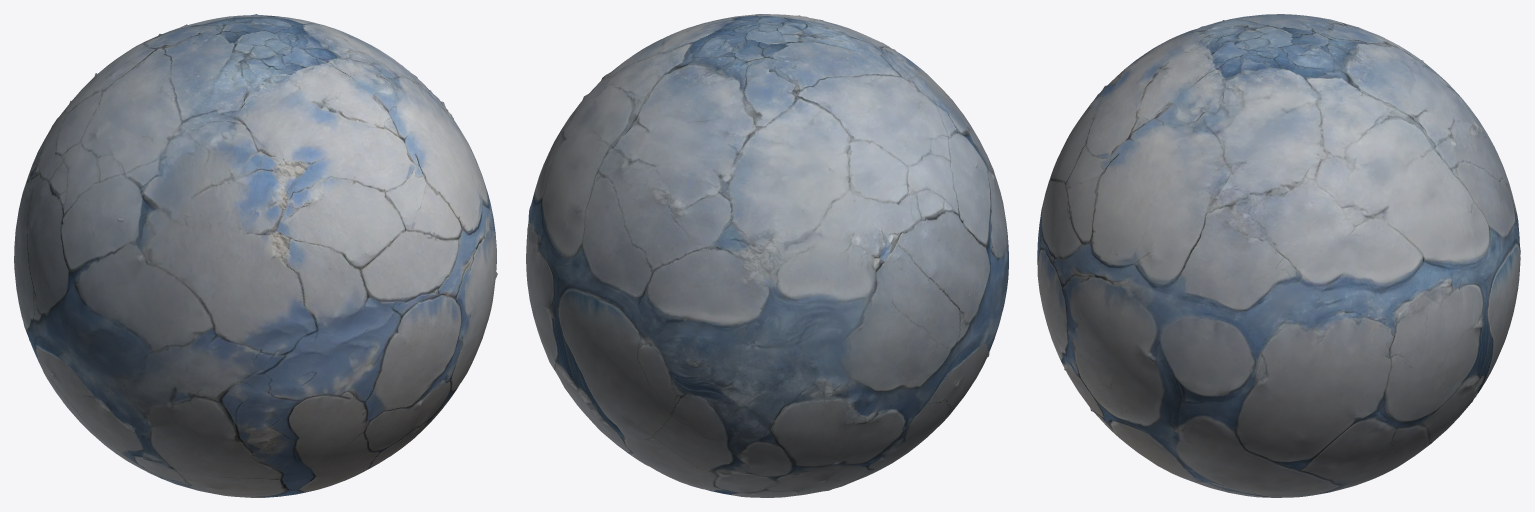
Rendered from ice_planet_6.glb.
3 views of the same model, side by side, from view 1: azimuth 30°, elevation 25°; view 2: azimuth 150°, elevation 25°; view 3: azimuth 270°, elevation 25° (orthographic).
Parts seen in each view (by area): view 1: Mesh_0.031; view 2: Mesh_0.031; view 3: Mesh_0.031.
Part boxes in pixels (x1,y1,x2,y2): Mesh_0.031: (14,14,497,497); Mesh_0.031: (526,14,1008,497); Mesh_0.031: (1037,14,1520,497).
Size of the model in its own units: 2 by 2 by 2.
1 material, 1 textured.
